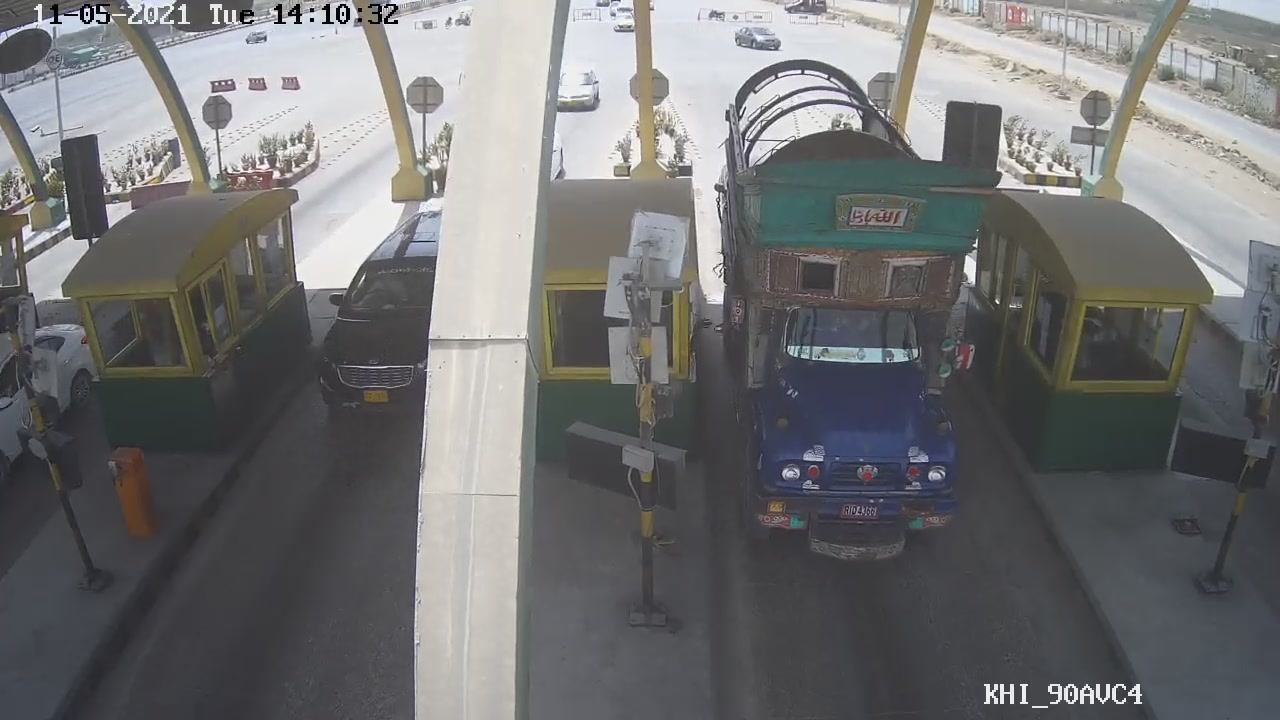F5: (706, 77, 999, 571)
